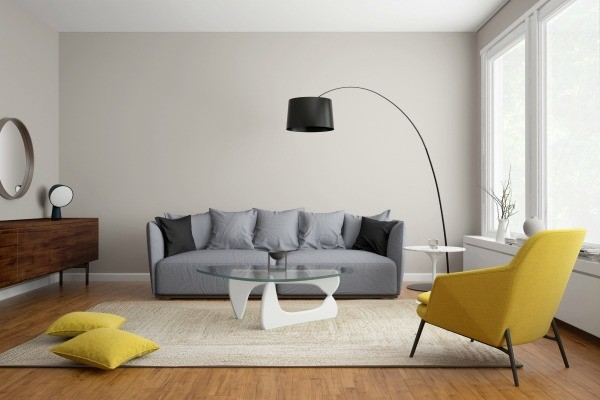chairs: (408, 231, 588, 381), (139, 208, 419, 301)
